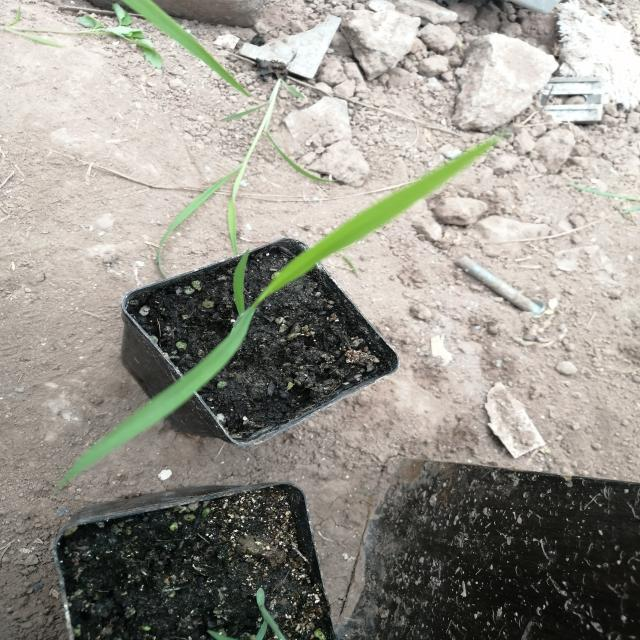crabgrass: (52, 132, 470, 457)
